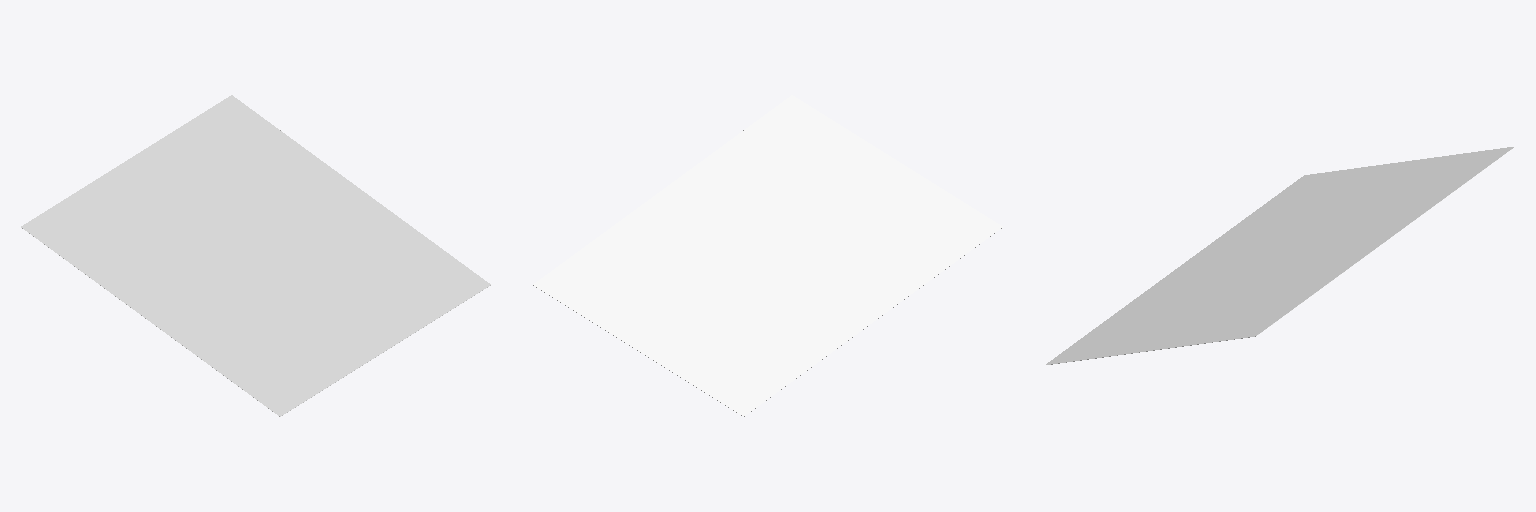
robot.urdf — ramp_robot:
<?xml version="1.0" ?>
<robot name="ramp_robot">
  
  <link name="world">
  </link>
  
  <link name="ramp">
    <contact>
      <lateral_friction value="1.0"/>
      <rolling_friction value="0.0"/>
      <contact_cfm value="0.0"/>
      <contact_erp value="1.0"/>
    </contact>
    <inertial>
      <origin rpy='0 1.2217304763960306 0' xyz='0 0 0'/>
       <mass value="100.0"/>
       <inertia ixx="1" ixy="0" ixz="0" iyy="1" iyz="0" izz="1"/>
    </inertial>
    <visual>
      <origin rpy='0 1.2217304763960306 0' xyz='0 0 0'/>
      <geometry>
				<box size="0.05 100 50"/>
      </geometry>
       <material name="white">
        <color rgba="1 1 1 1"/>
      </material>
    </visual>
    <collision>
      <origin rpy='0 1.2217304763960306 0' xyz='0 0 0'/>
      <geometry>
	 	    <box size="0.05 100 50"/>
      </geometry>
    </collision>
  </link>
  
  <joint name="ramp_to_plane" type="fixed">
    <parent link="world"/>
    <child link="ramp"/>
    <origin xyz="0 0 0"/>
  </joint>

</robot>

--- Facts derived from the render (not from the file) ---
3 views of the same robot in one strip: view 1: azimuth 30°, elevation 25°; view 2: azimuth 150°, elevation 25°; view 3: azimuth 330°, elevation 25° (orthographic).
Robot: ramp_robot — 2 links, 1 joints (1 fixed); root link world; default pose: every joint at zero.
Visible links, largest first — view 1: ramp; view 2: ramp; view 3: ramp.
Boxes of the visible links, x1,y1,x2,y2 form: ramp: (21, 95, 490, 416); ramp: (533, 95, 1002, 416); ramp: (1046, 147, 1513, 364).
Bounding box of the posed robot: 47 × 100 × 17.15 m (x, y, z).
Geometry: primitives only (box / cylinder / sphere), no mesh files.